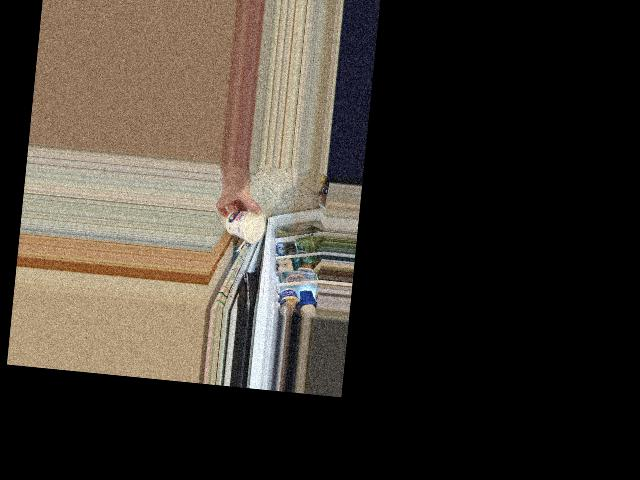cotage: (225, 206, 269, 243)
